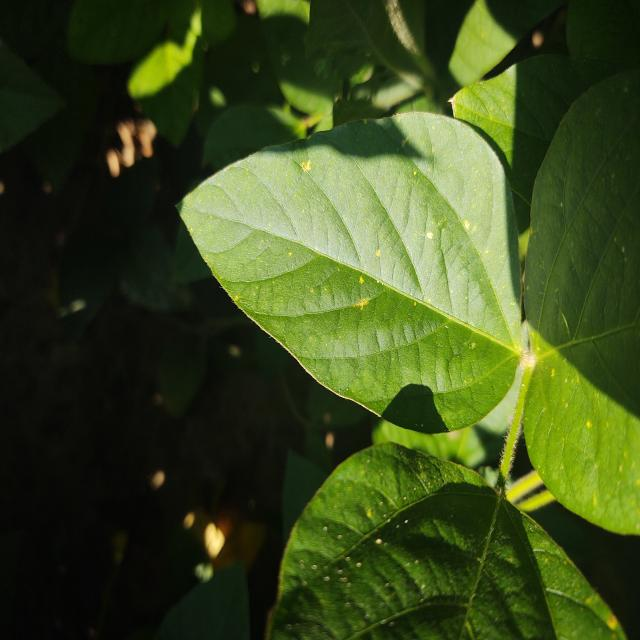downey_mildew: (175, 110, 640, 539), (418, 220, 446, 257), (463, 328, 490, 366), (367, 236, 390, 276)
